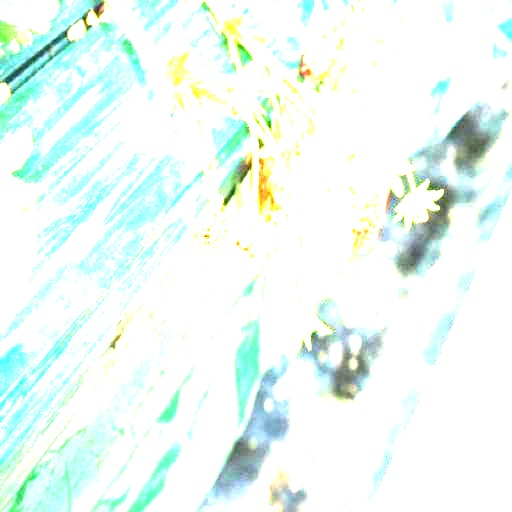Gray Mold: (201, 199, 281, 303)
